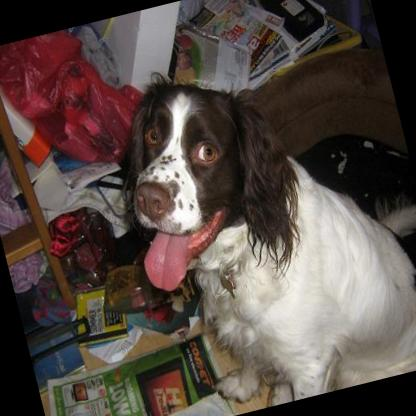English_springer: (98, 23, 416, 416)
